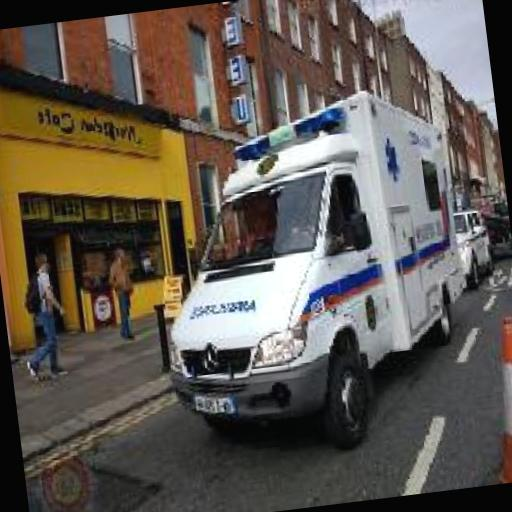Ambulance: (141, 86, 492, 472)
